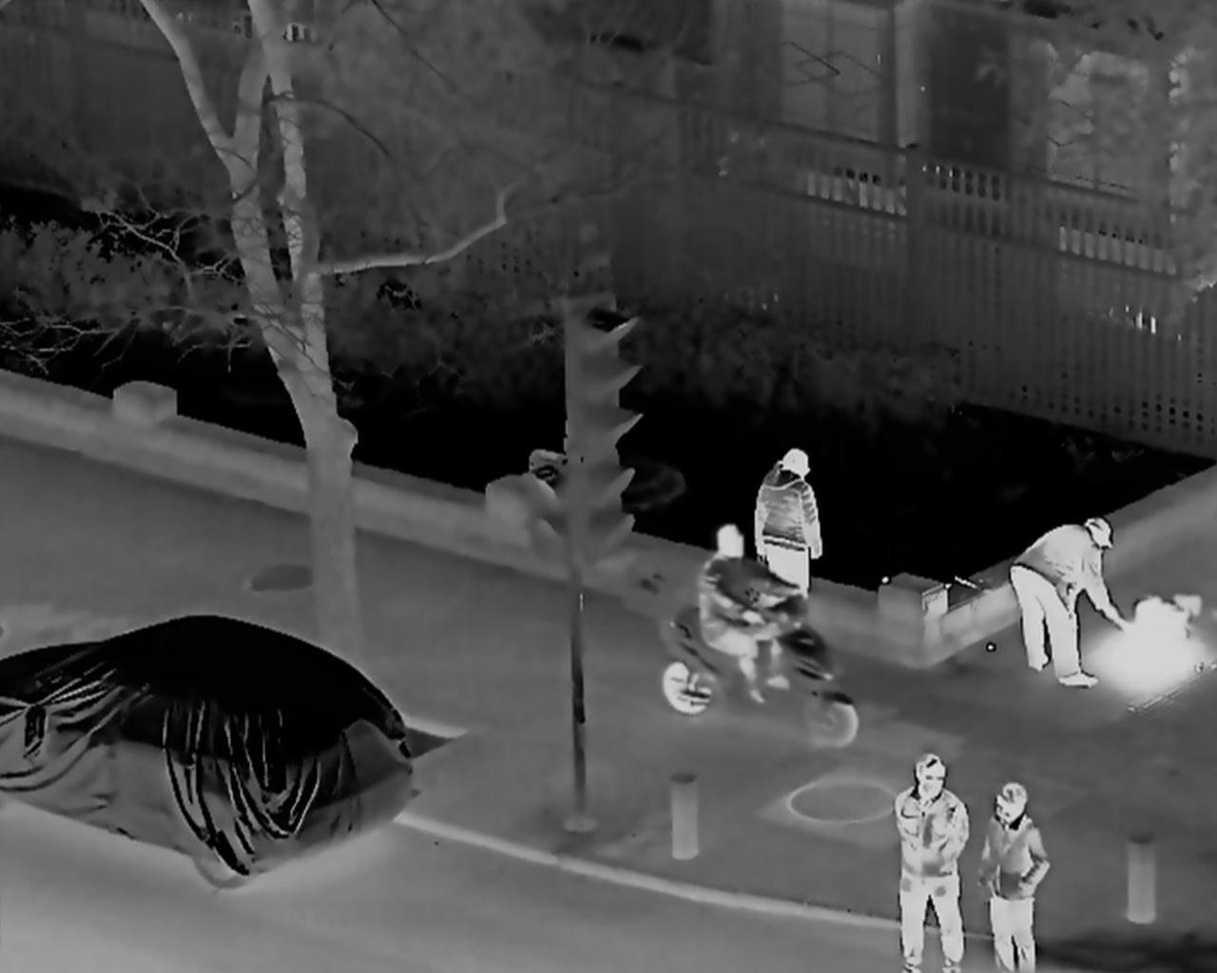person: (1012, 514, 1122, 688), (700, 523, 801, 708), (898, 754, 963, 973), (978, 781, 1051, 973), (752, 444, 824, 634)
